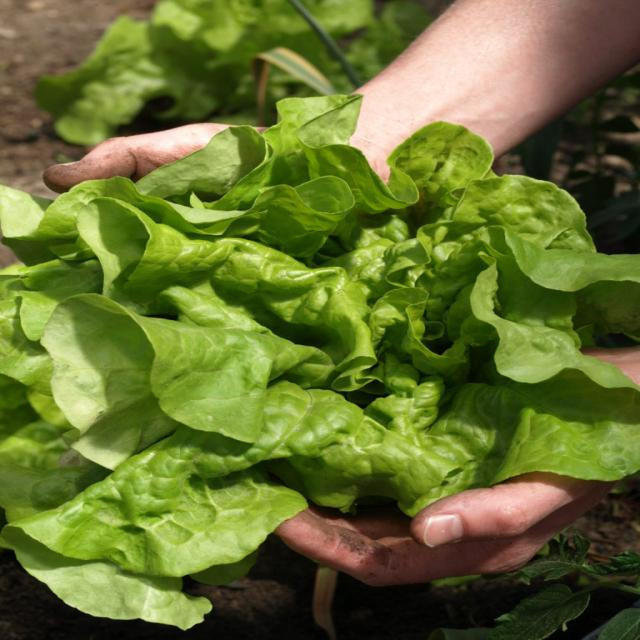Lettuce head: (0, 163, 640, 521)
